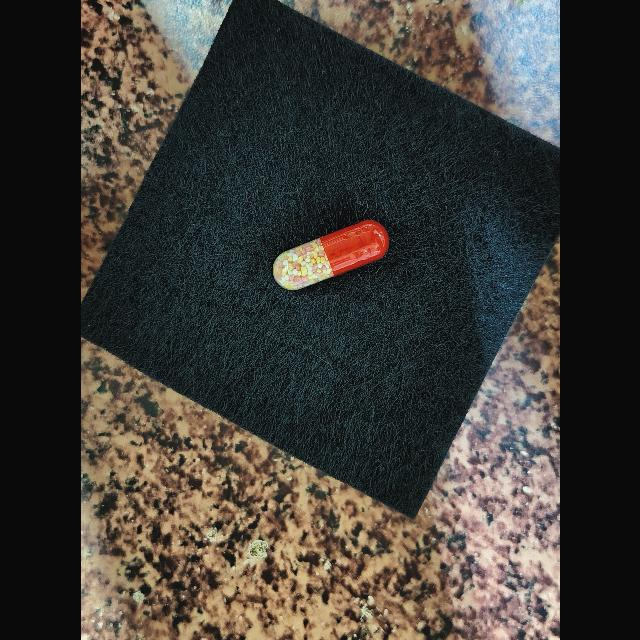Intact Capsule: (272, 220, 388, 290)
